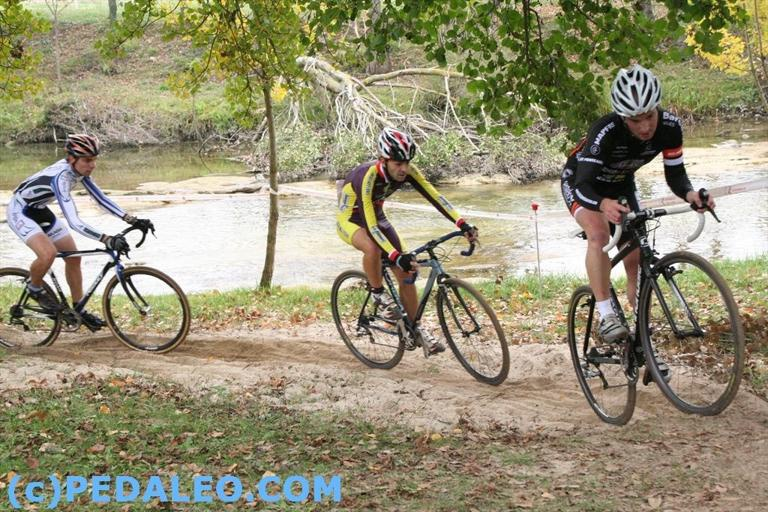non-vehicle: (566, 187, 745, 425), (330, 229, 510, 385), (0, 224, 191, 354)
